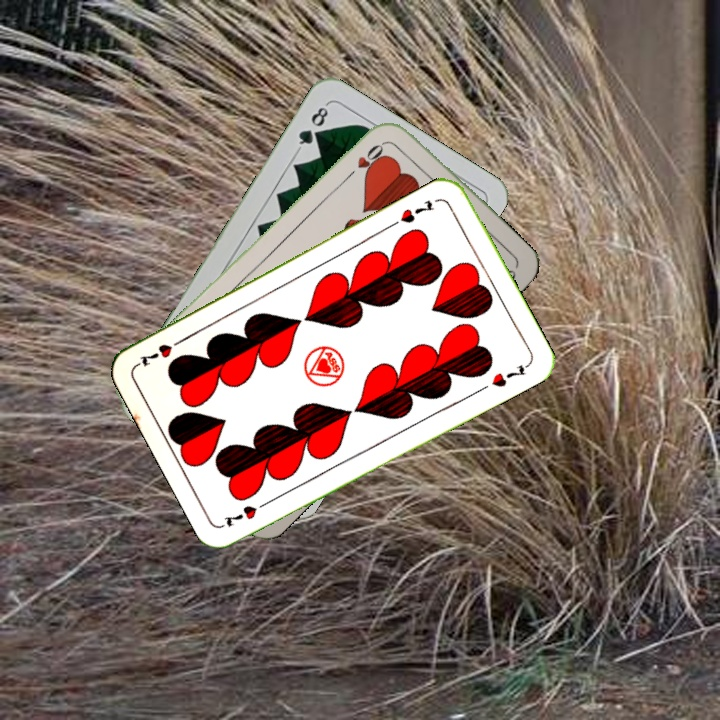G8: (293, 100, 331, 153)
H7: (219, 495, 274, 530), (396, 196, 437, 226)
HO: (341, 137, 389, 182)
